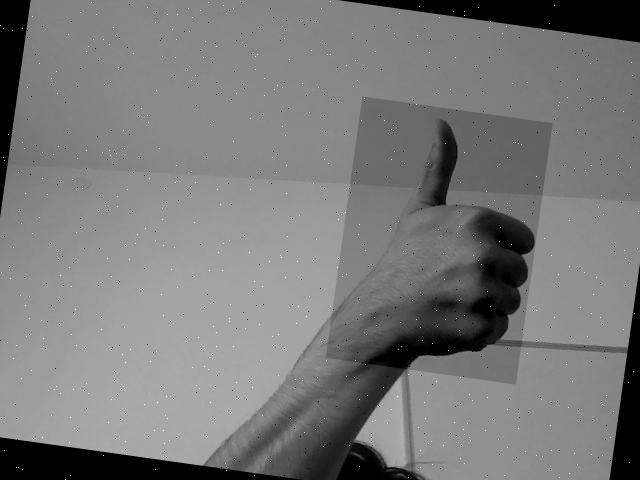good: (331, 110, 539, 369)
